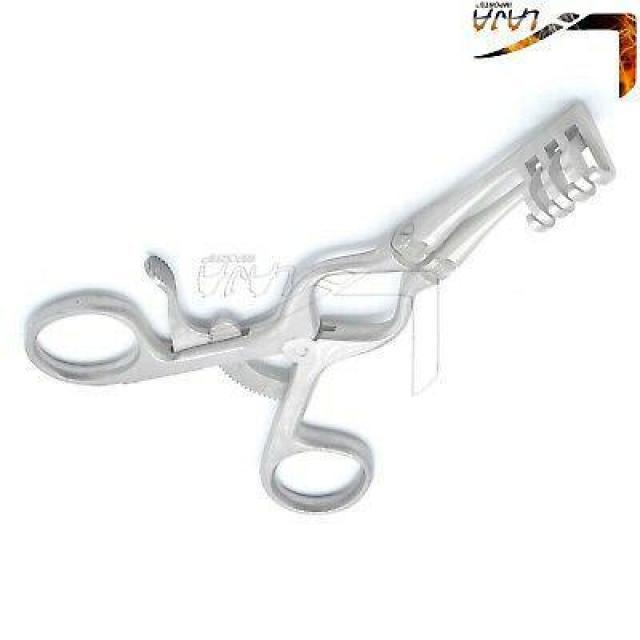Weitlaner: (19, 99, 618, 522)
